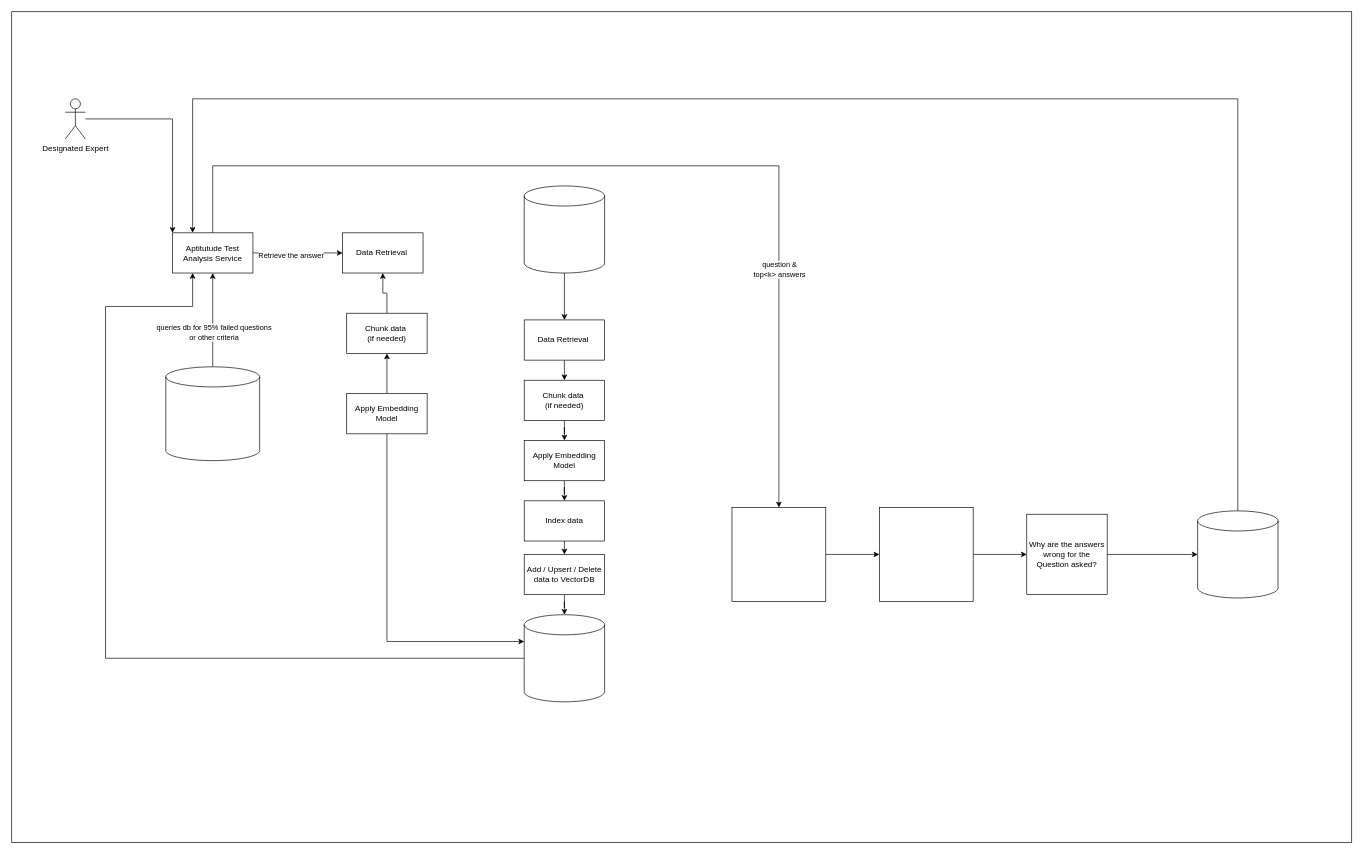
This 1363x854 diagram has some shape labels left out. The shapes that lost their labels are listed below. From the top down, each one's centre as x and y in pixels, then its label:
At point (564, 229): "AI Normalized Candidate Exam Data".
At point (212, 413): "Aptitude Test Grade Database".
At point (778, 554): "Prompt Orchestrator".
At point (926, 554): "LLM".
At point (1237, 554): "AI Short-Answer/Multiple Choice Error Review".
At point (564, 658): "AI Normalized Candidate Exam Data Vector DB".
